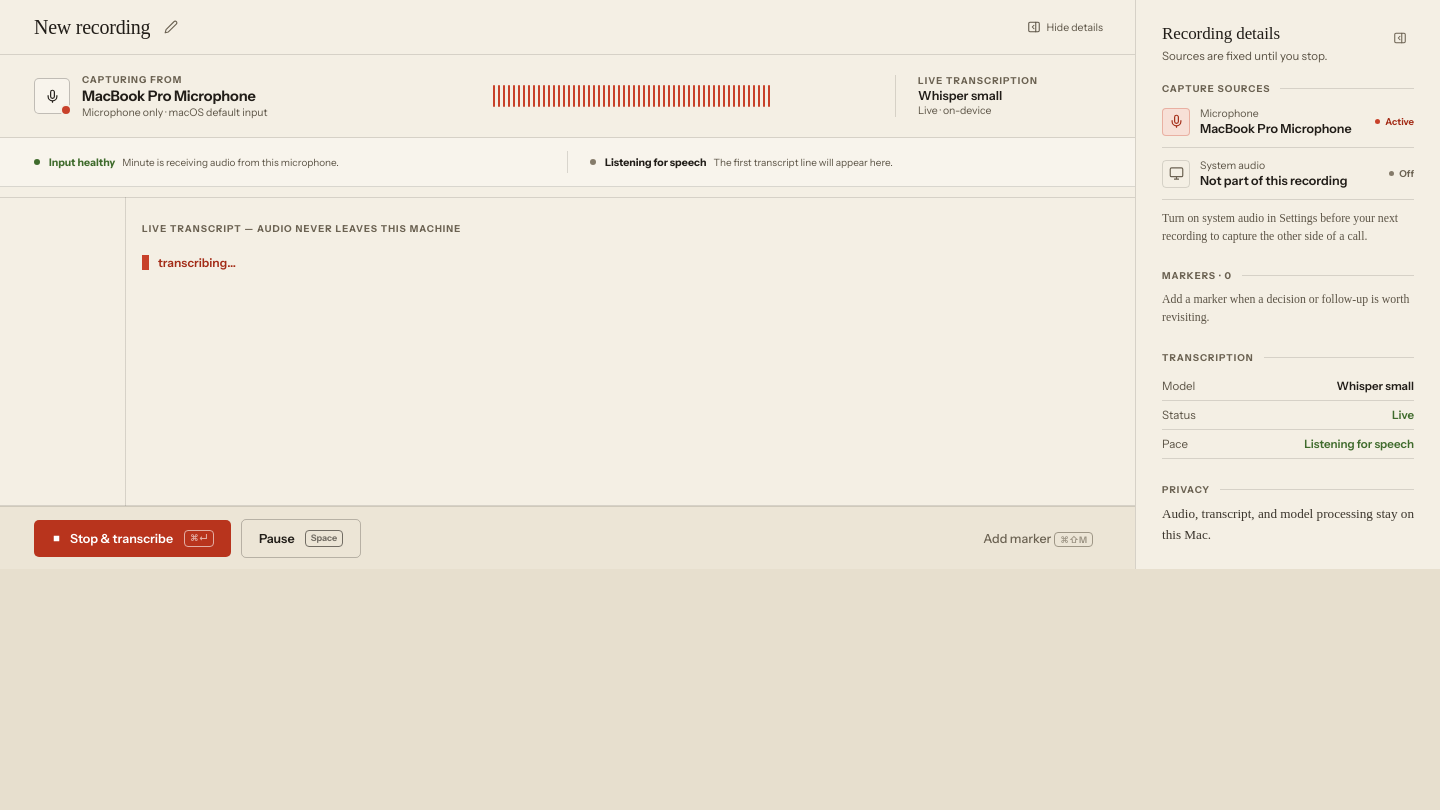
Test: RecordingView › cancels a working-title edit with Escape
Click the button named "Edit recording title" at (171,27), box [157,13,185,41]
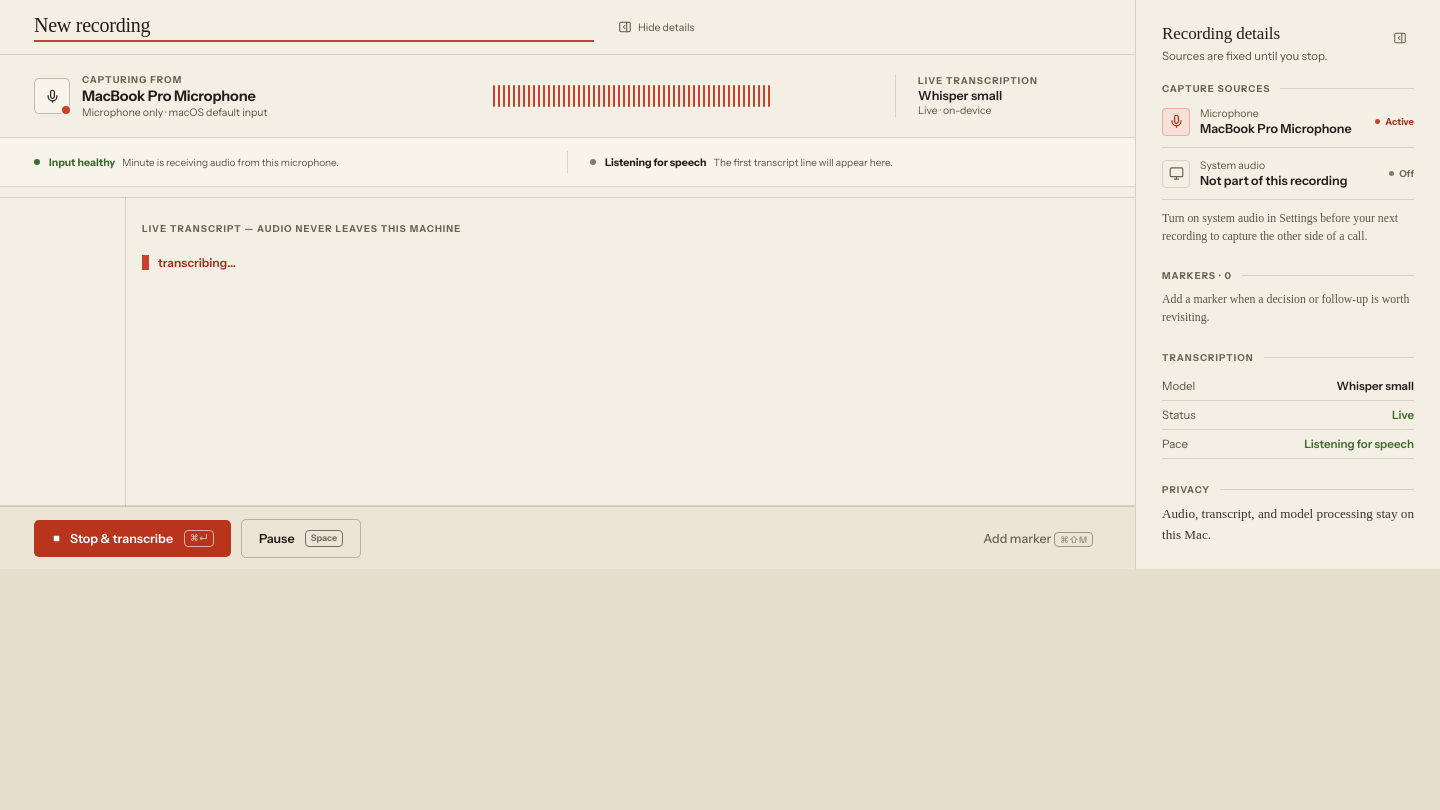
Replace the text in the field named "Recording title" with "Discard this" at (314,27), box [34,13,594,41]
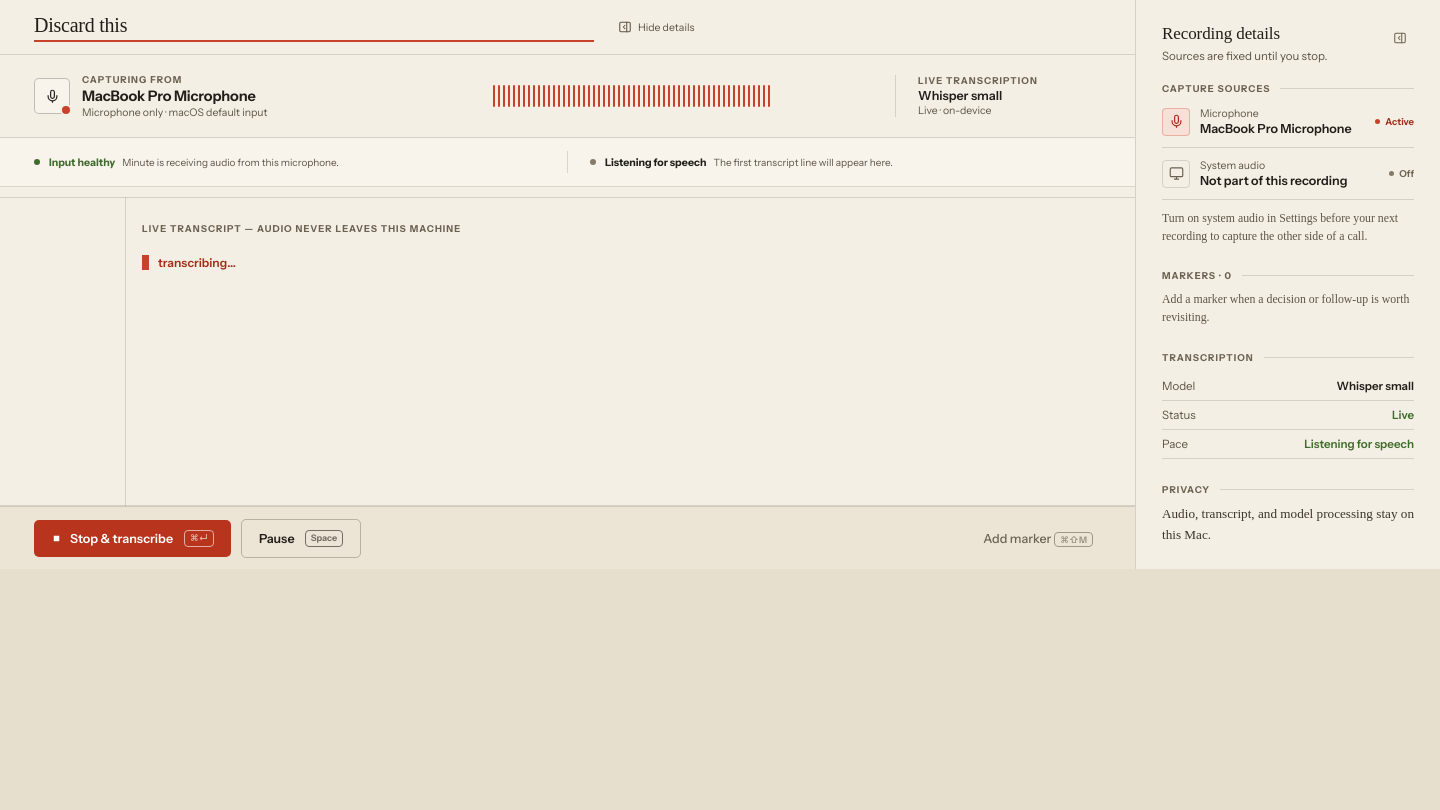
Press Escape in the field named "Recording title", box [34,13,594,41]
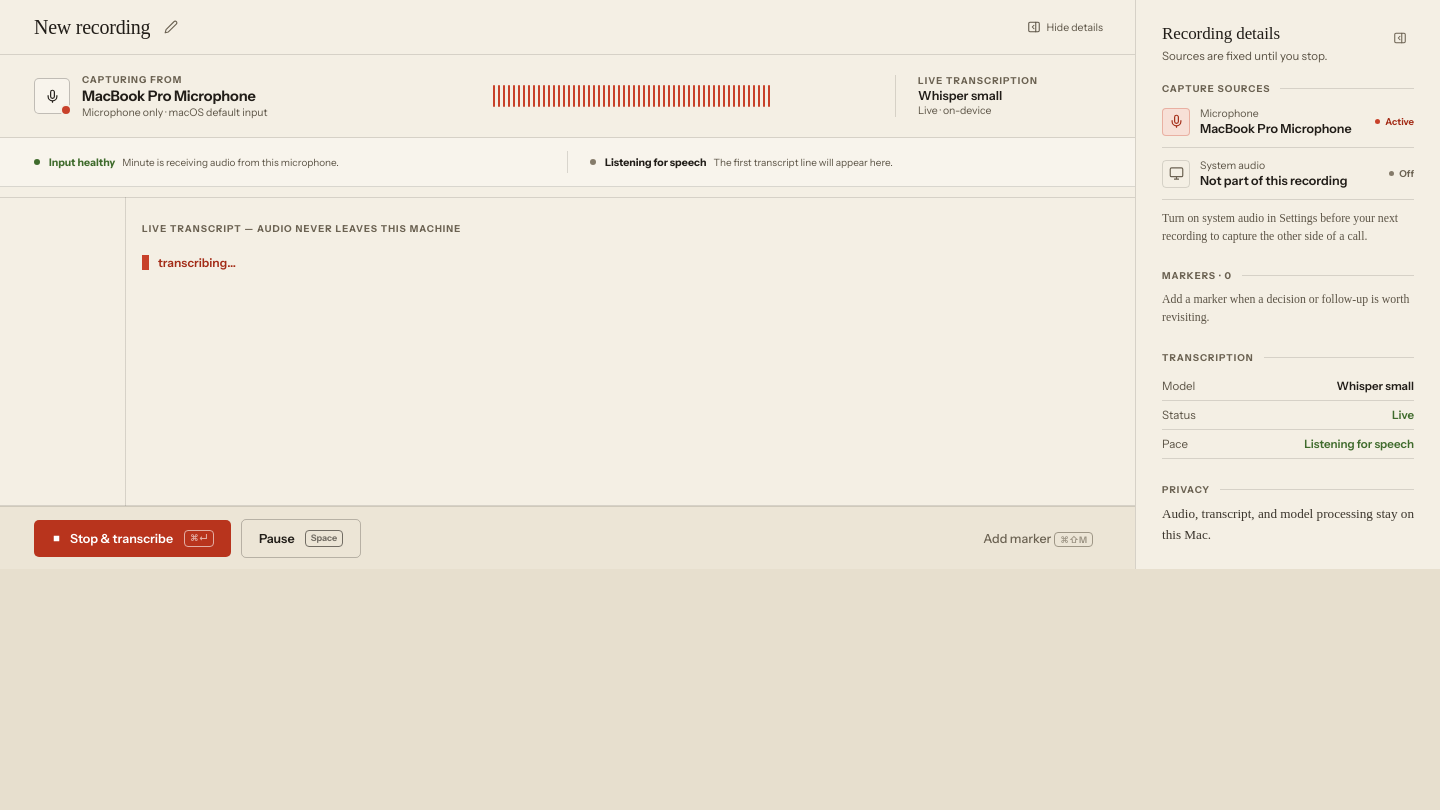
Now the heading "New recording" is shown, box [34,16,150,38]
